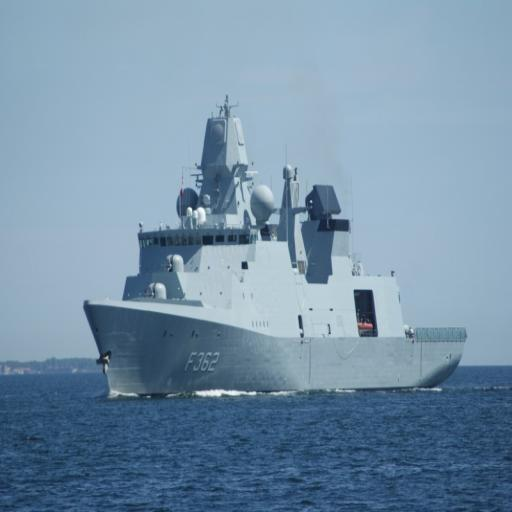Fragata: (79, 100, 470, 407)
